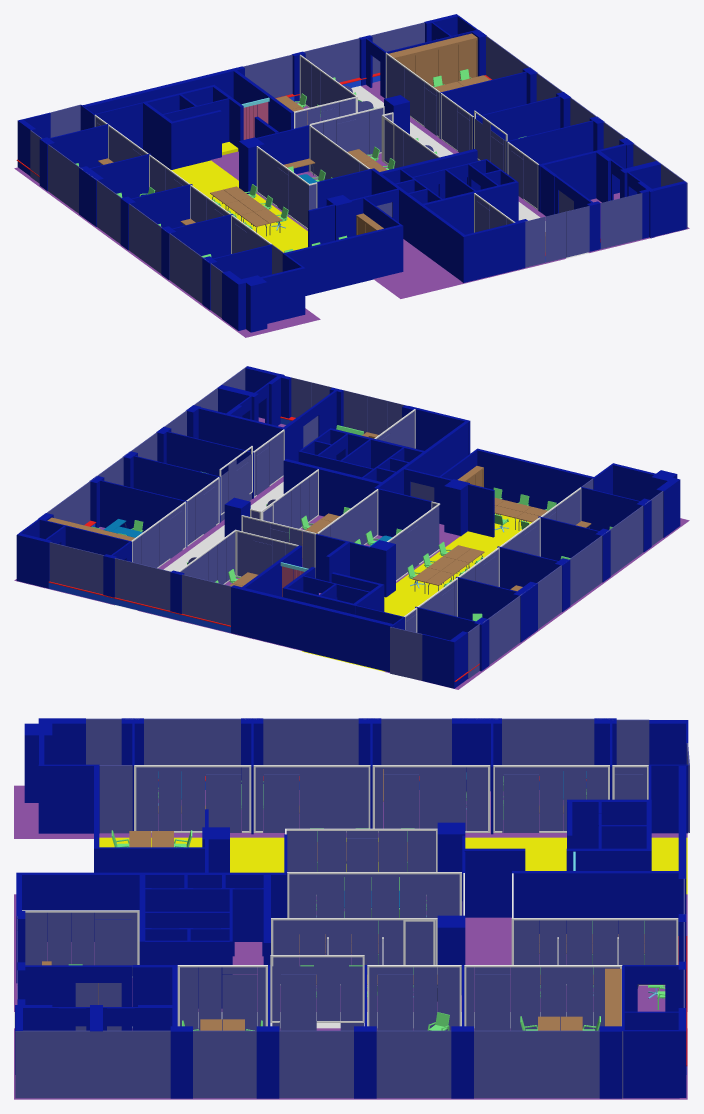
Rendered from Ivy_Office_03.fbx.
3 views of the same model, one above another, from view 1: azimuth 30°, elevation 25°; view 2: azimuth 150°, elevation 25°; view 3: azimuth 270°, elevation 25° (orthographic). The views are drawn at different scales.
Parts seen in each view (by area): view 1: Ivy_Office_03_obj_1; view 2: Ivy_Office_03_obj_1; view 3: Ivy_Office_03_obj_1.
Boxes of the visible parts, x1=… form: Ivy_Office_03_obj_1: x1=14, y1=14, x2=689, y2=337; Ivy_Office_03_obj_1: x1=14, y1=366, x2=689, y2=689; Ivy_Office_03_obj_1: x1=14, y1=718, x2=689, y2=1099.
Size of the model in its own units: 2699 by 315 by 2445.
